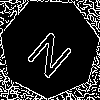N: (24, 23, 81, 81)
